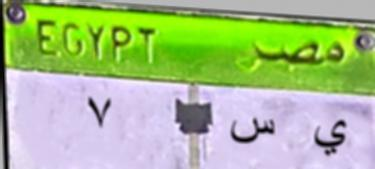7: (82, 91, 116, 133)
seen: (228, 112, 279, 148)
yaa: (312, 113, 348, 157)
